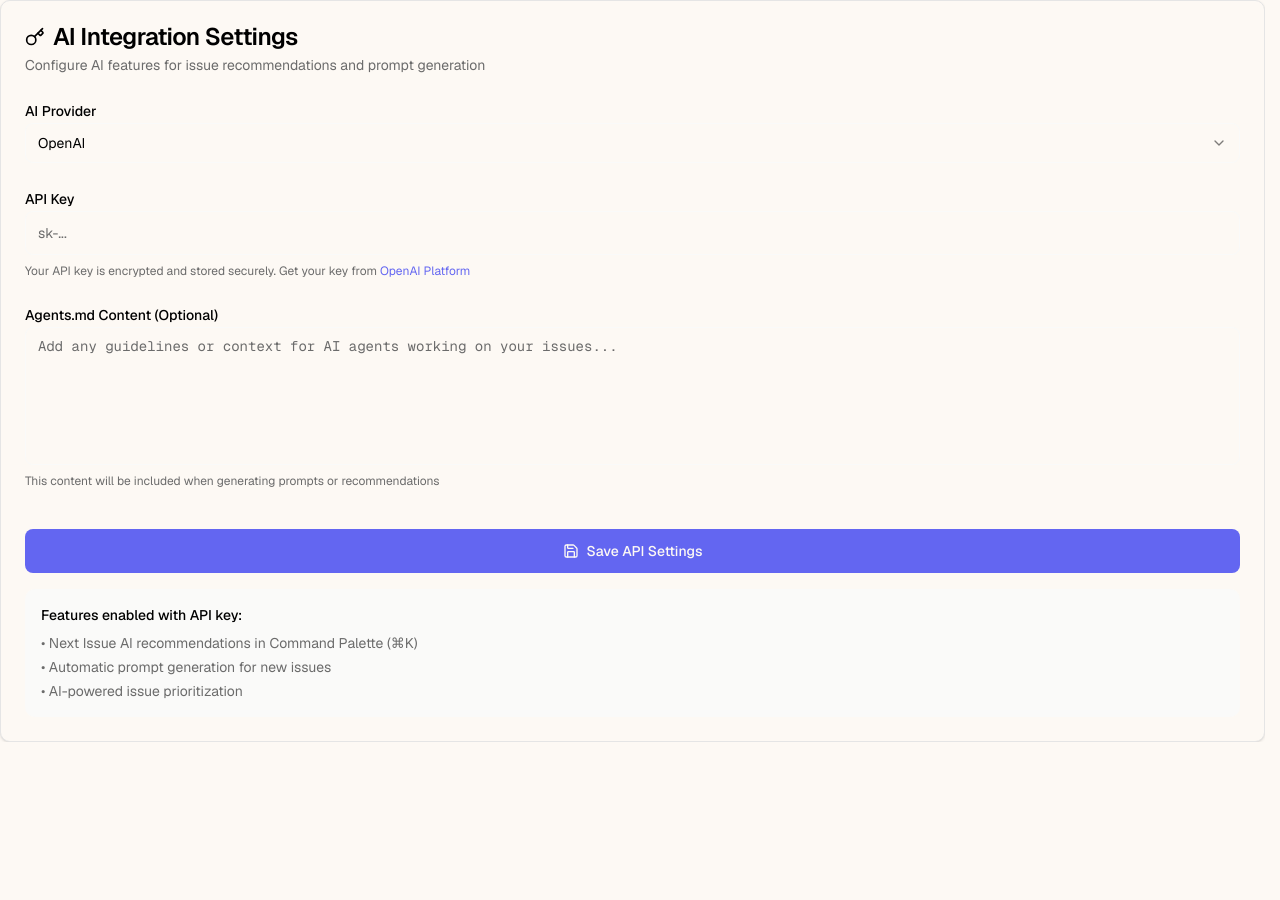
Test: ApiSettings › saving settings › should save settings successfully
The image size is (1280, 900).
Note: Fill in the form
Type "test-api-key" into the password field labelled "API Key" at [632, 233], box [25,211,1240,255]
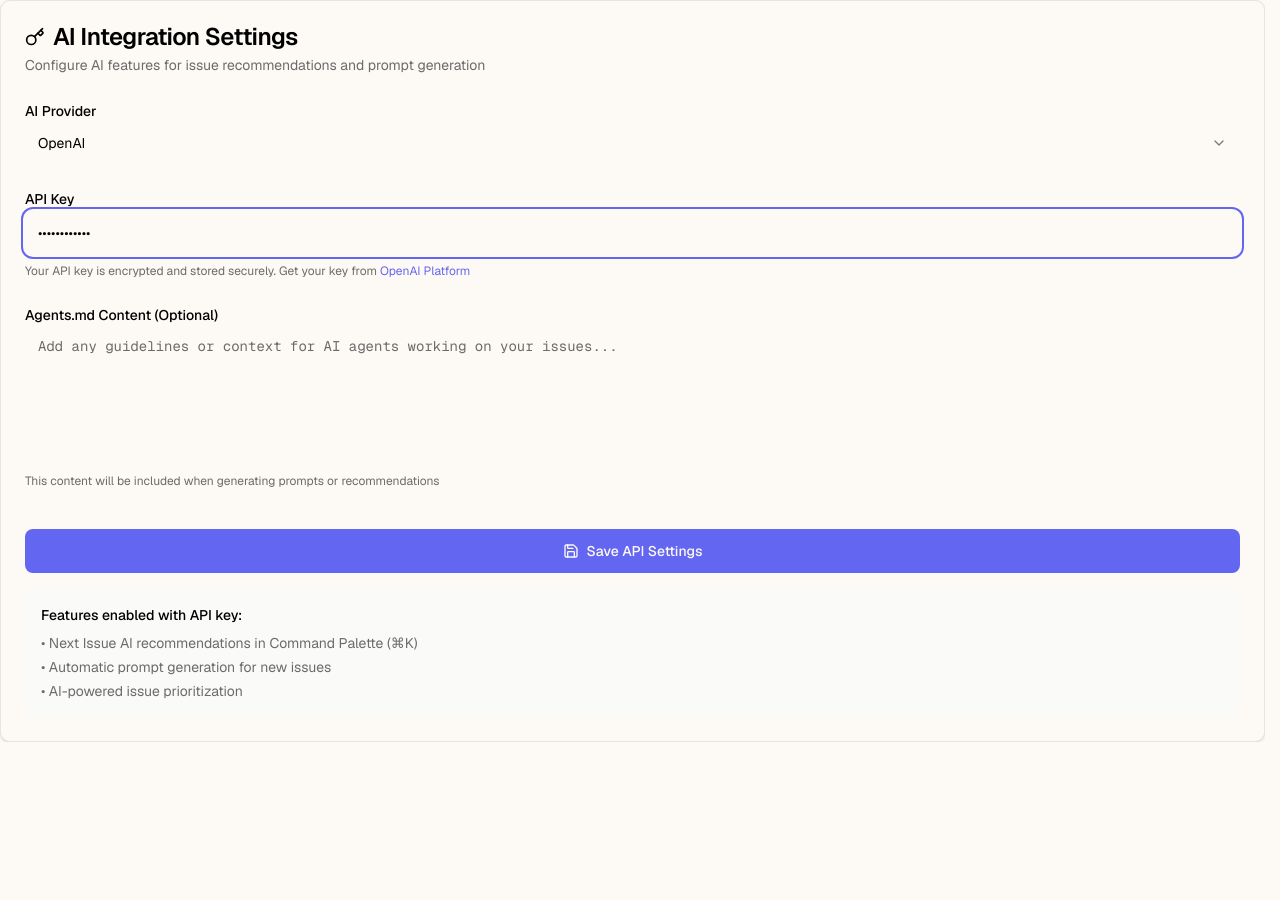
Type "Test agents content" into the text box labelled "Agents.md Content (Optional)" at [632, 396], box [25,327,1240,465]
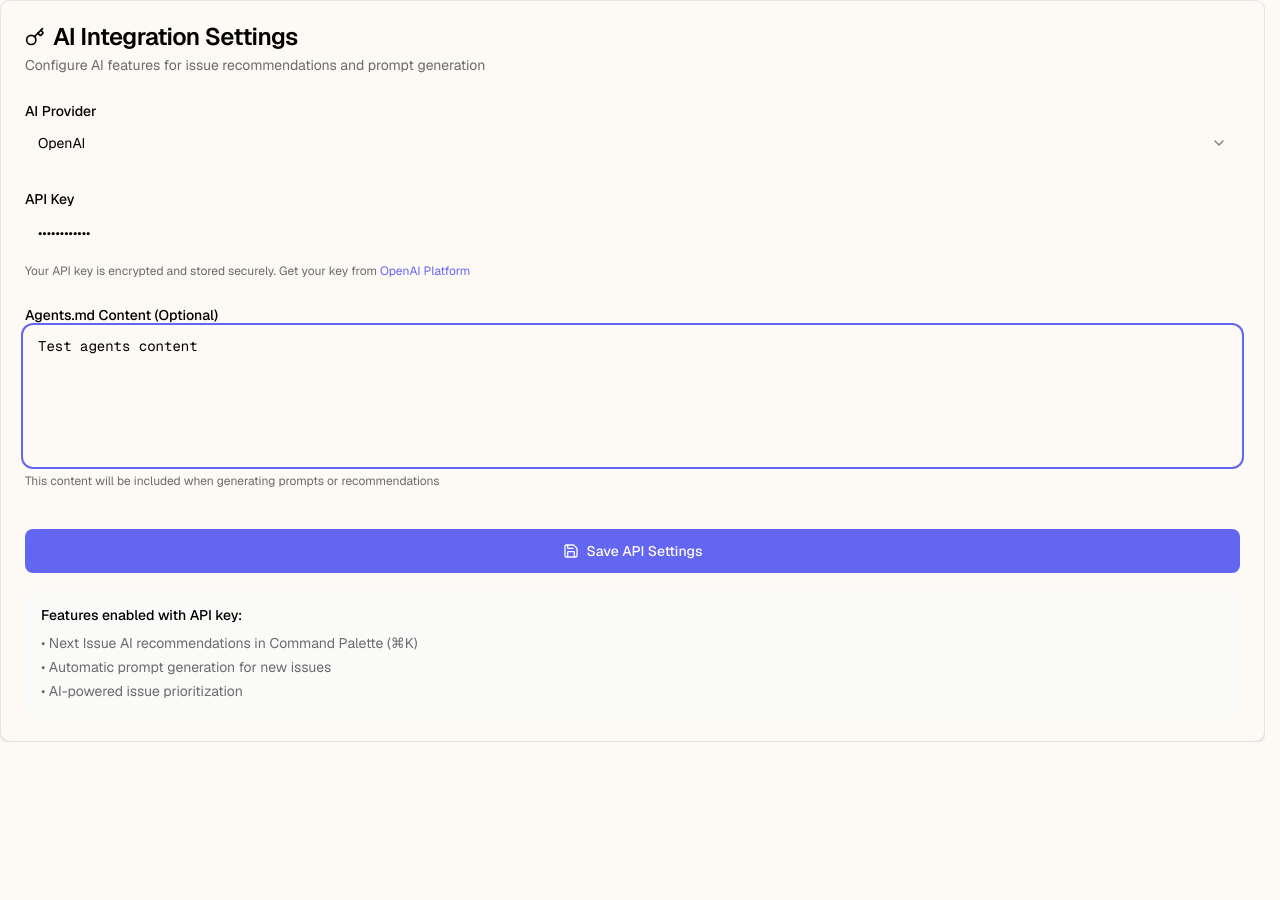
Note: Click save
Click the button "Save API Settings" at [632, 551], box [25,529,1240,573]
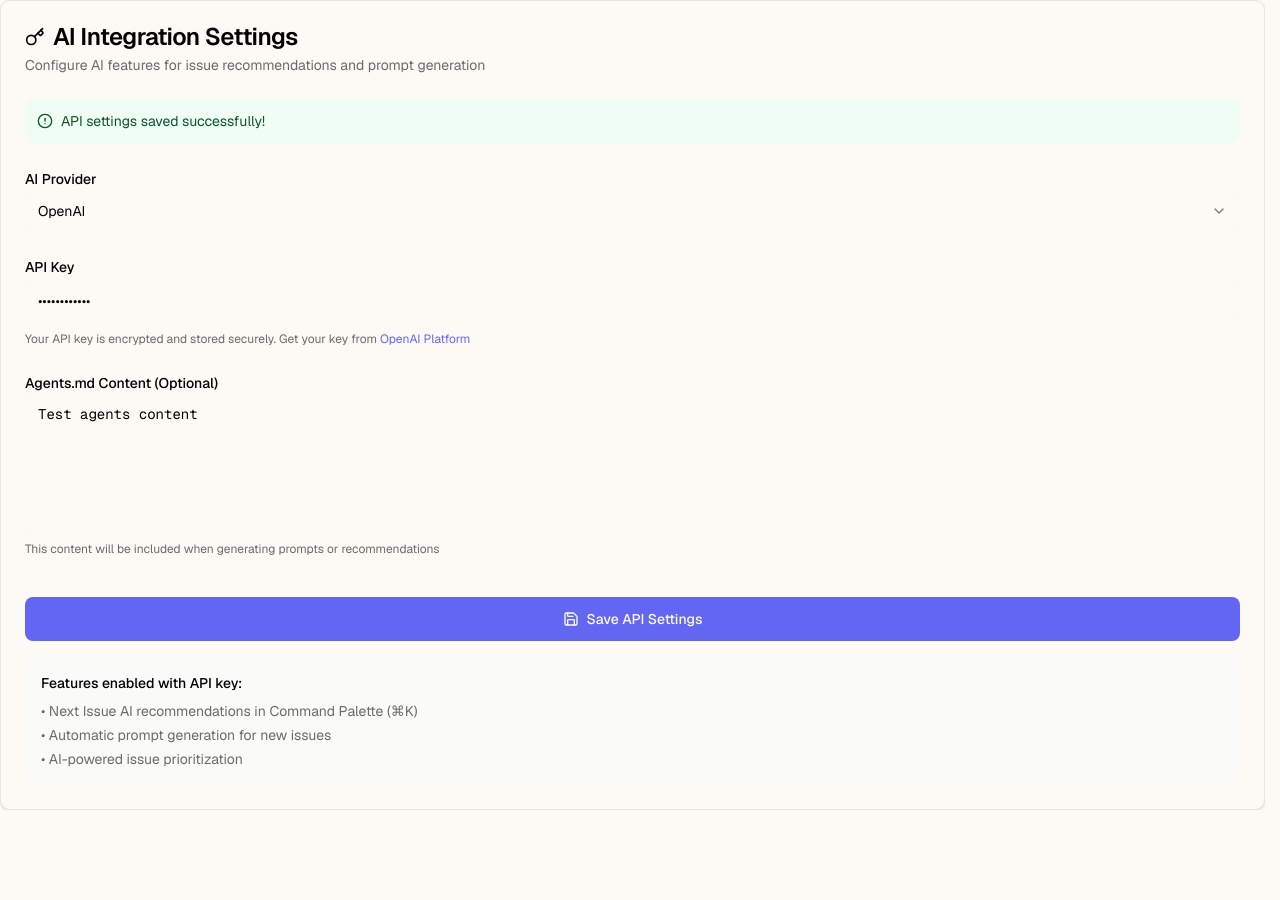
Now the text "API settings saved successfully!" is shown, box [61,111,265,131]
